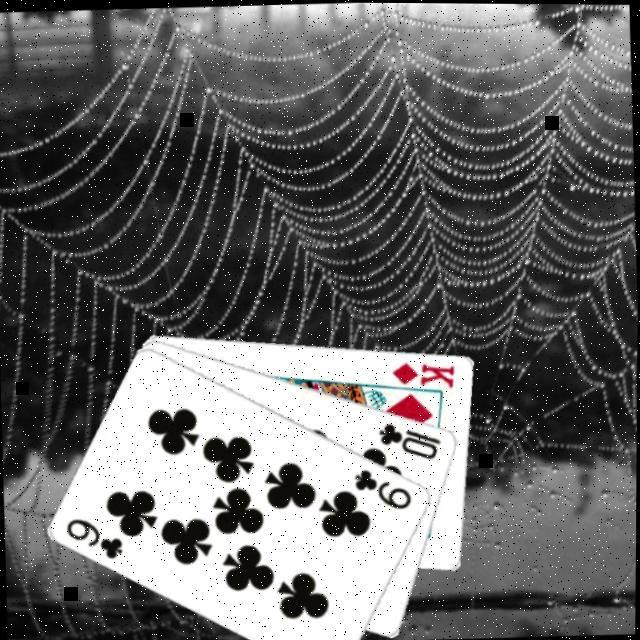10C: (374, 415, 443, 461)
9C: (348, 461, 414, 511), (62, 511, 126, 561)
KD: (387, 355, 458, 389)
